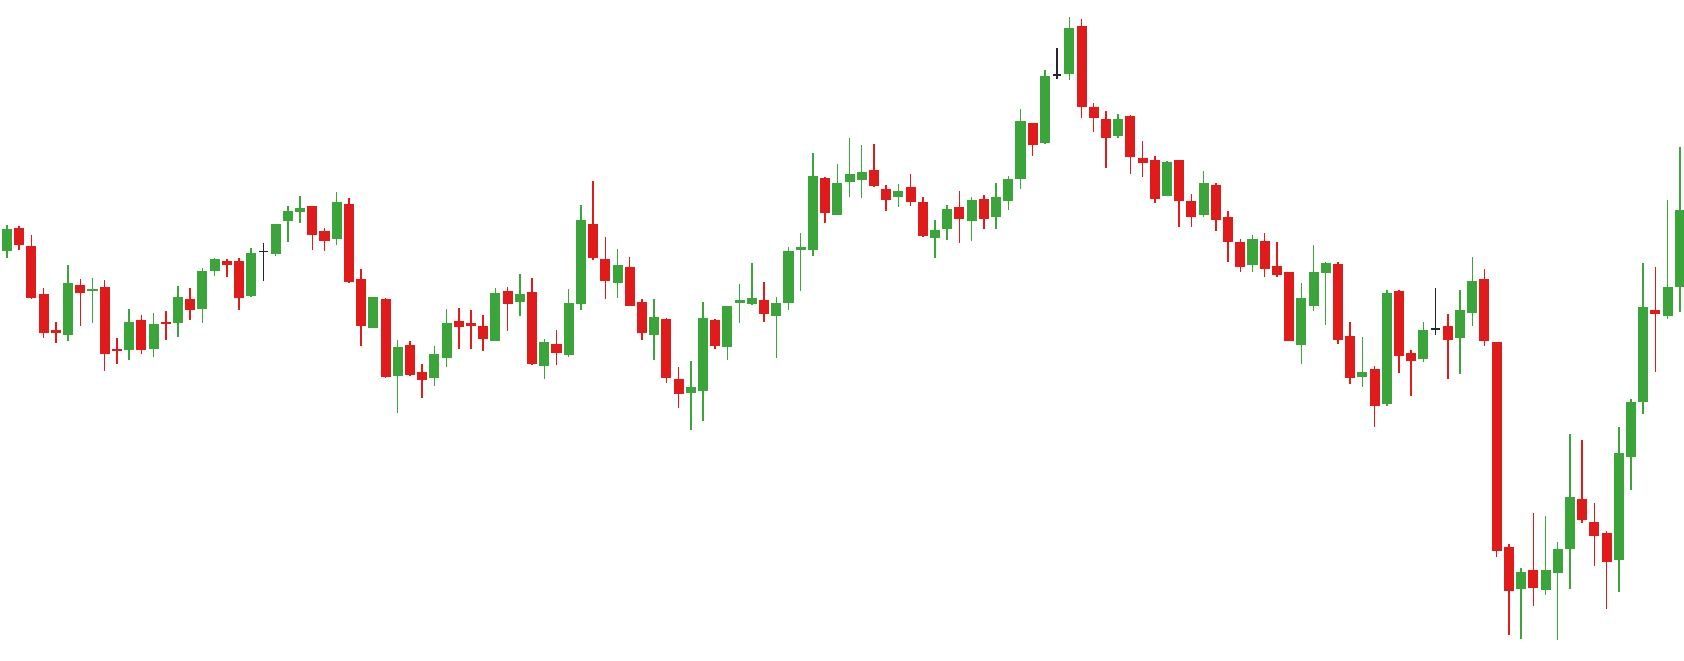sell: (330, 182, 600, 319)
